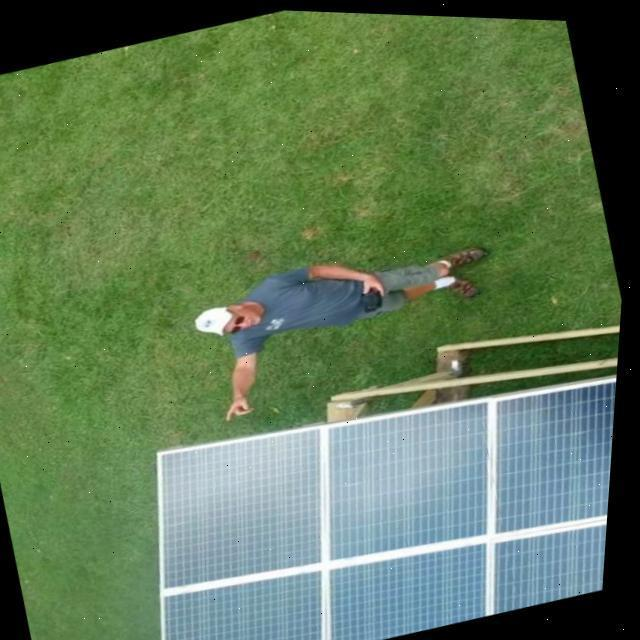Normal Solar Panel: (114, 325, 624, 640)
